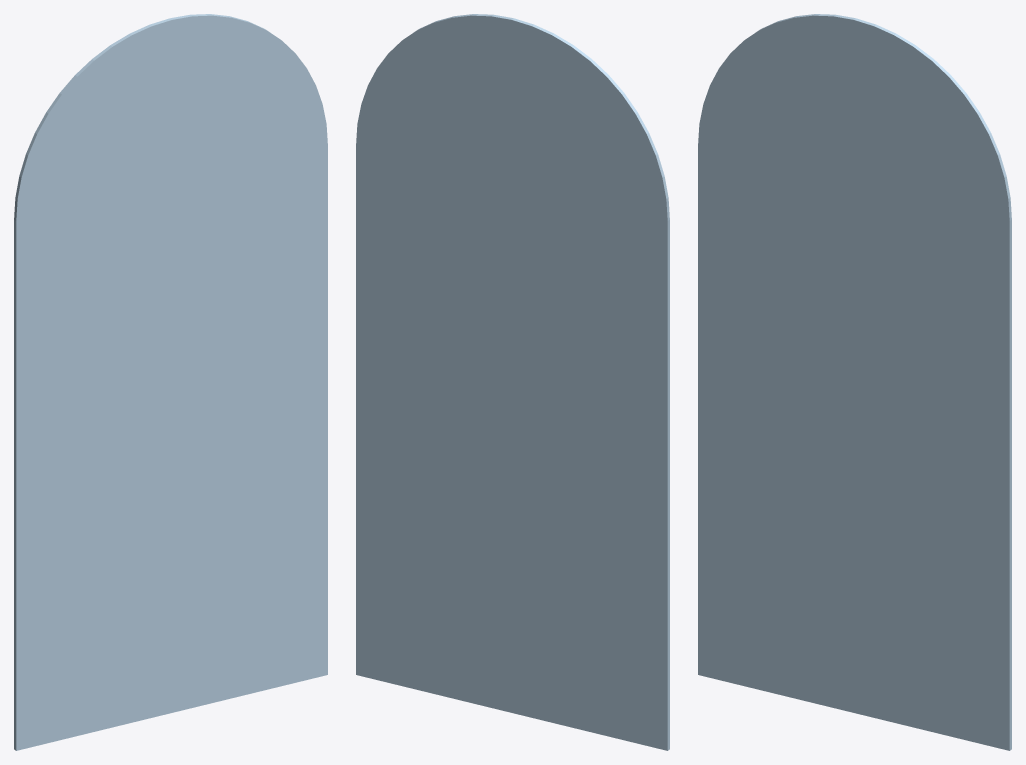
File: KRM_M18_P3_corridor_L_outer_glazing.fbx
The picture shows the model from 3 angles, left to right: view 1: azimuth 30°, elevation 25°; view 2: azimuth 150°, elevation 25°; view 3: azimuth 330°, elevation 25°; orthographic projection.
Visible parts, largest first — view 1: KRM_M18_P3_corridor_L_outer_glazing; view 2: KRM_M18_P3_corridor_L_outer_glazing; view 3: KRM_M18_P3_corridor_L_outer_glazing.
Boxes of the visible parts, box(x1,y1,x2,y2) form: KRM_M18_P3_corridor_L_outer_glazing: box(14, 14, 327, 750); KRM_M18_P3_corridor_L_outer_glazing: box(356, 14, 669, 750); KRM_M18_P3_corridor_L_outer_glazing: box(698, 14, 1011, 750).
Bounding box in the file's own units: 160 × 340 × 2.
Materials: 1 (1 with a texture image).
